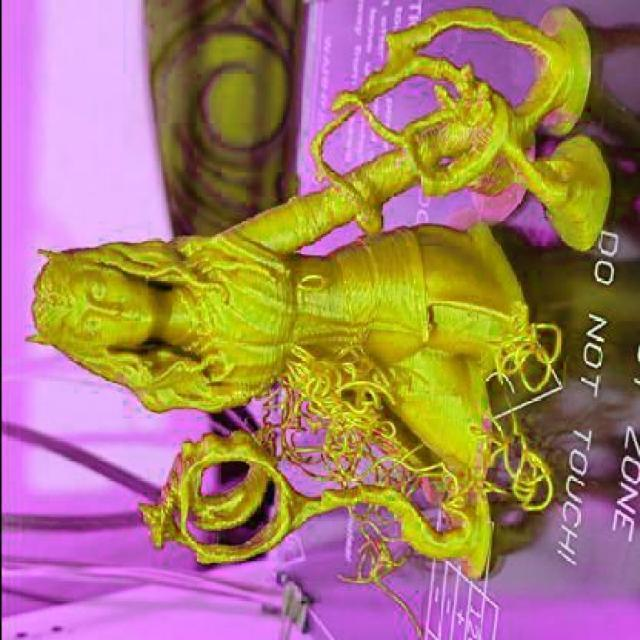spaghetti: (257, 346, 552, 516), (329, 511, 420, 638), (487, 300, 556, 396), (452, 64, 490, 128), (296, 276, 326, 293)
